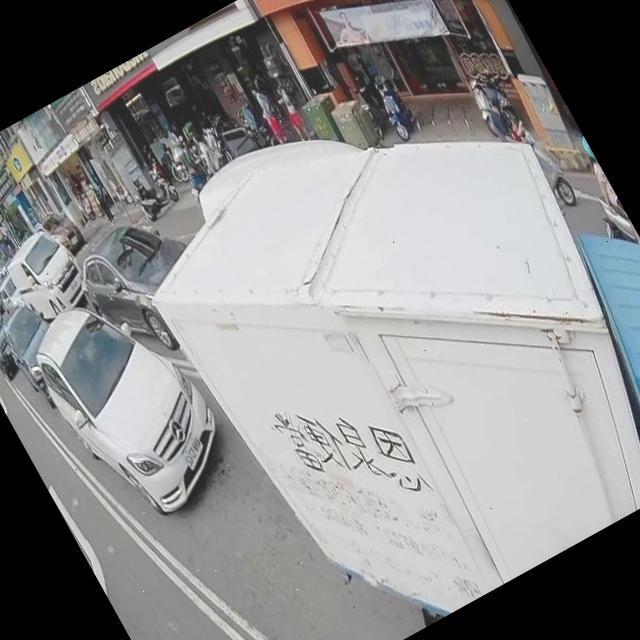person: (567, 133, 640, 251), (474, 80, 528, 148), (247, 80, 296, 148), (268, 76, 314, 145), (345, 42, 390, 107), (161, 125, 199, 180), (252, 72, 287, 124), (188, 128, 224, 176), (200, 123, 233, 168), (86, 177, 117, 224)
